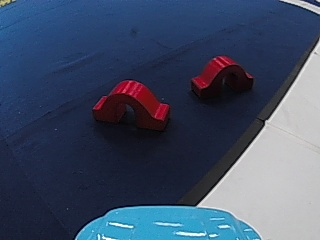bridge: (88, 75, 176, 129), (189, 52, 254, 101)
